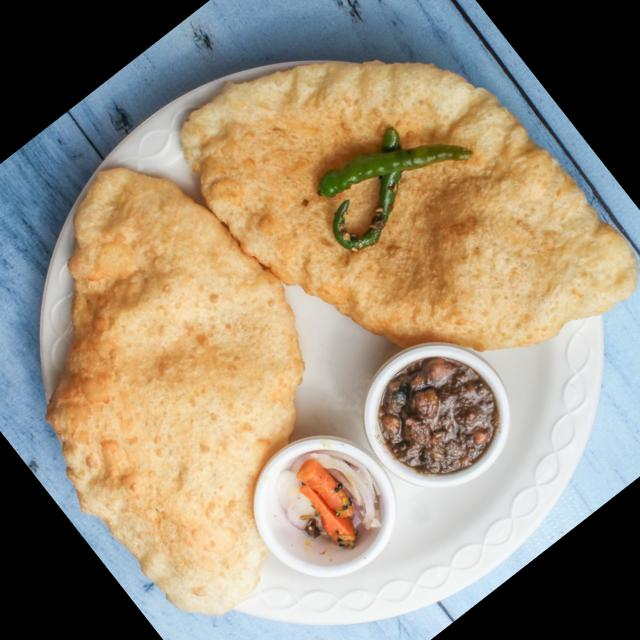Bhatura: (159, 0, 640, 465), (0, 123, 420, 640)
